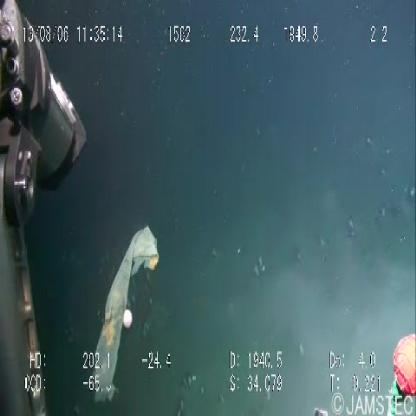Rov: (0, 1, 87, 416)
Rác: (78, 219, 167, 416)
